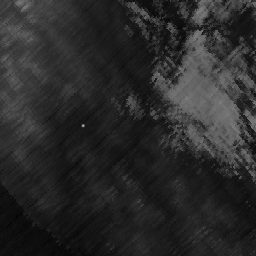Target: (80, 122, 86, 128)
